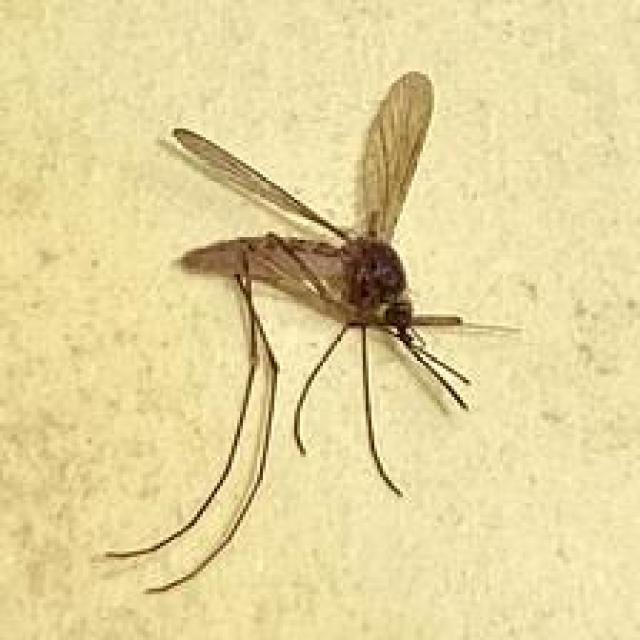Culex: (102, 69, 524, 594)
